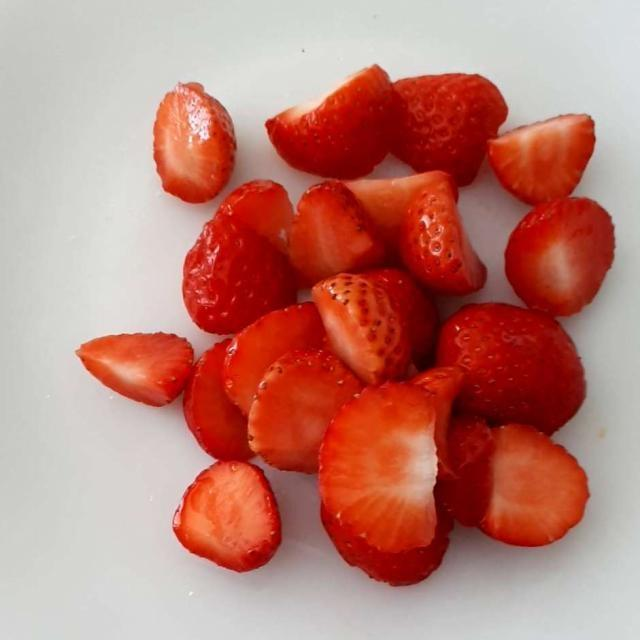strawberries: (70, 63, 624, 591), (85, 76, 602, 583)
